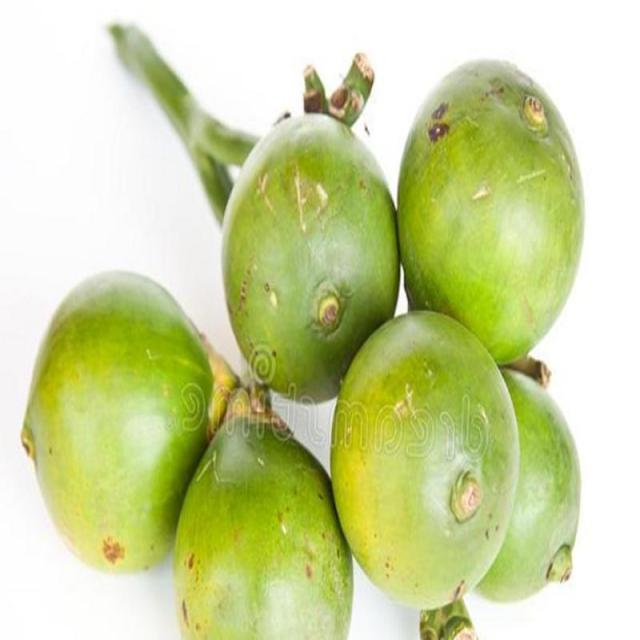good: (21, 272, 213, 571), (398, 61, 584, 363), (330, 313, 518, 607), (223, 115, 398, 401), (174, 418, 352, 639), (475, 370, 580, 601)
